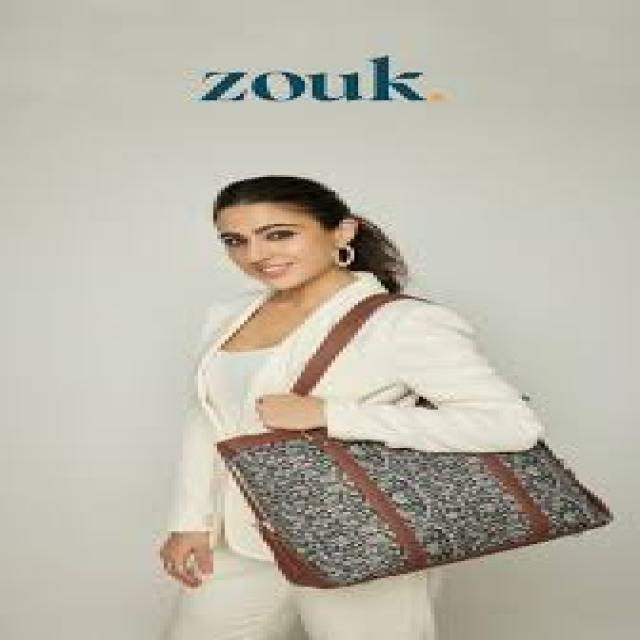handbag: (183, 286, 620, 588)
